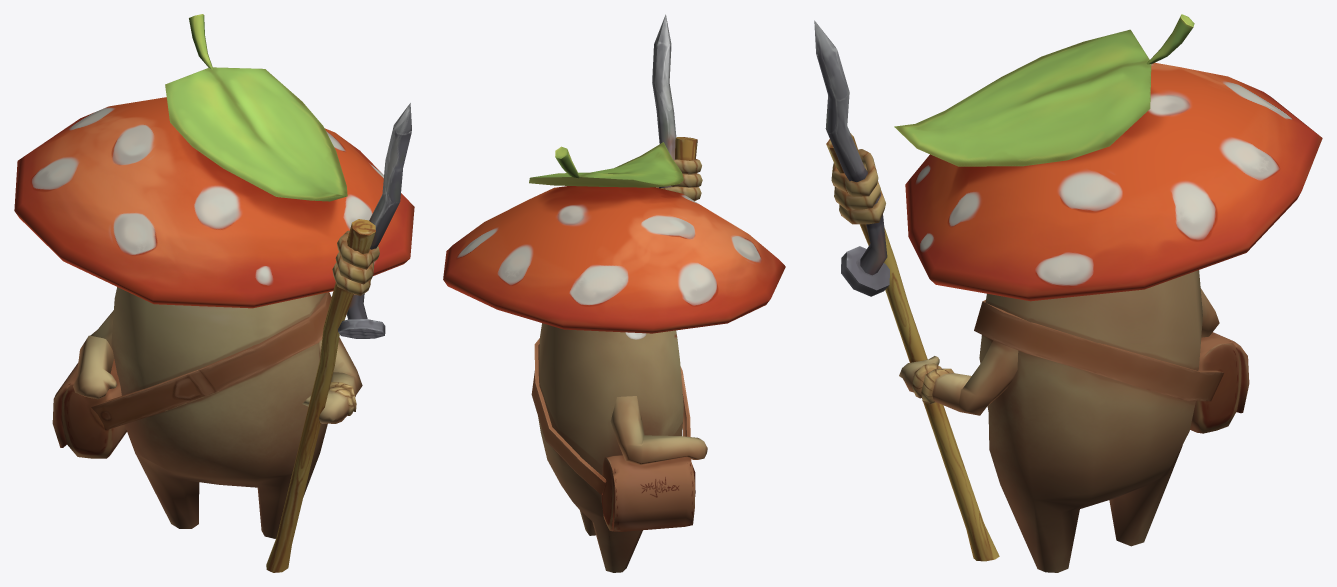
The model's file is guard.obj.
3 renders of one model, left to right at view 1: azimuth 30°, elevation 25°; view 2: azimuth 150°, elevation 25°; view 3: azimuth 270°, elevation 25°, orthographic. The views are drawn at different scales.
Parts seen in each view (by area): view 1: Cube.003; view 2: Cube.003; view 3: Cube.003.
Part boxes in pixels (x1,y1,x2,y2): Cube.003: (14,14,414,572); Cube.003: (443,14,785,572); Cube.003: (814,14,1322,572).
Size of the model in its own units: 2.75 by 3.97 by 3.21.
1 material, 1 textured.
